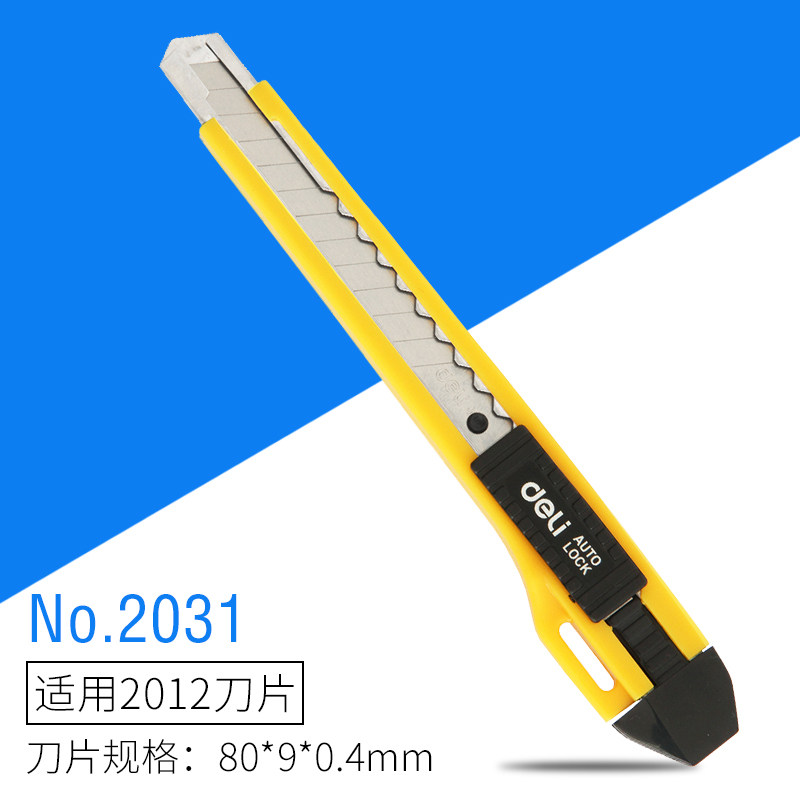cutter: (155, 29, 739, 769)
